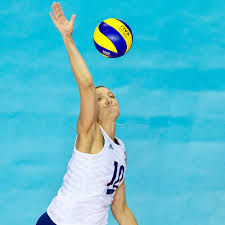ball: (92, 18, 132, 57)
